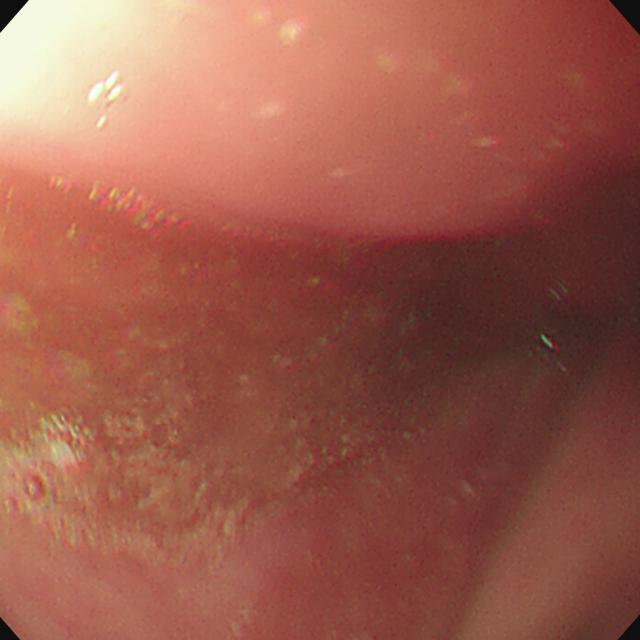T: (3, 411, 253, 569)
U: (86, 182, 190, 240), (87, 70, 127, 130), (540, 335, 561, 353)
